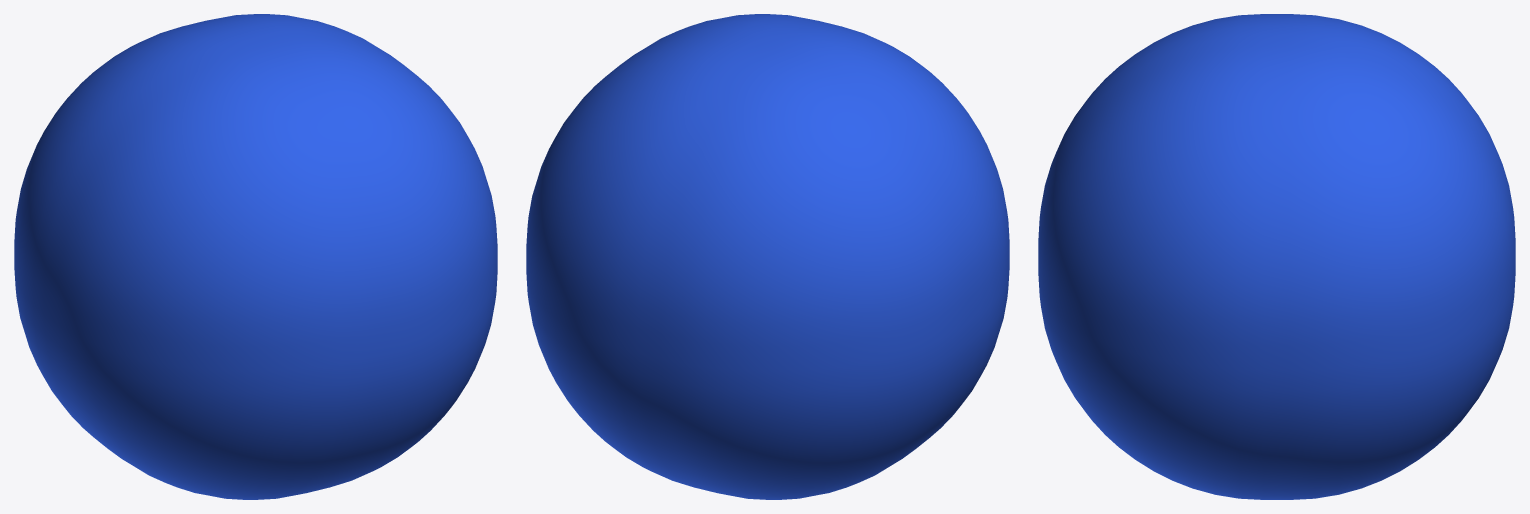
The model's file is Ball.fbx.
The picture shows the model from 3 angles, left to right: view 1: azimuth 30°, elevation 25°; view 2: azimuth 150°, elevation 25°; view 3: azimuth 270°, elevation 25°; orthographic projection.
Parts seen in each view (by area): view 1: Cube; view 2: Cube; view 3: Cube.
Part boxes in pixels (bbox=[...]): Cube: bbox=[14, 14, 497, 499]; Cube: bbox=[526, 14, 1009, 499]; Cube: bbox=[1038, 14, 1515, 499].
Size of the model in its own units: 200 by 200 by 200.
